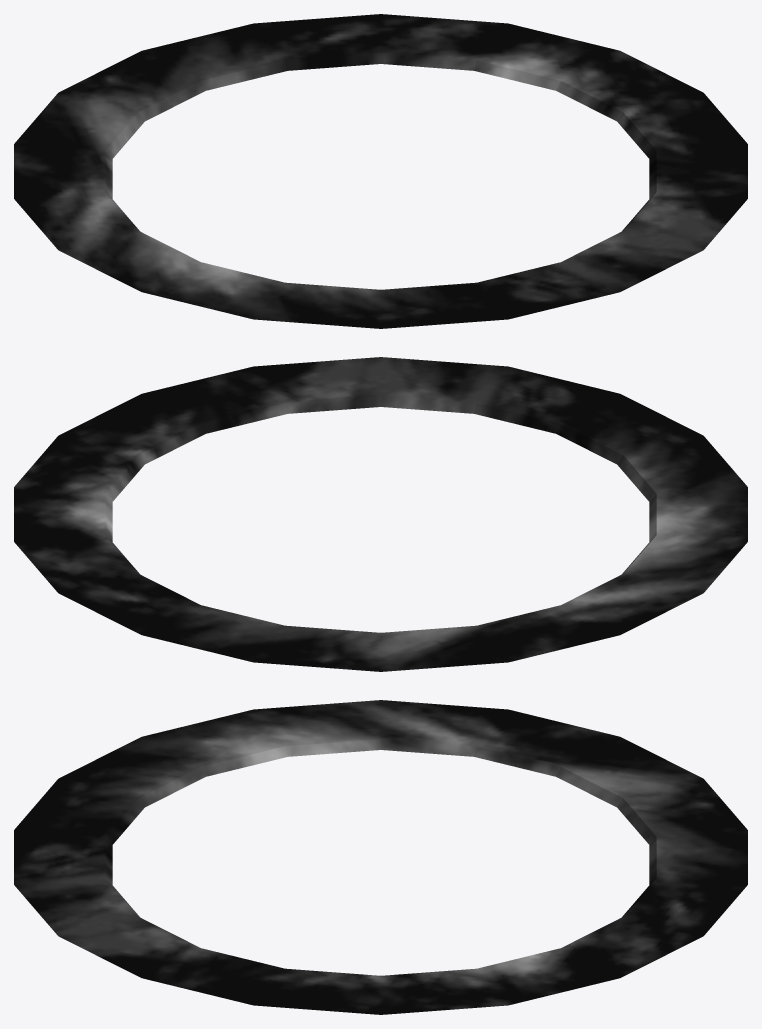
The model's file is taizi.FBX.
3 views of the same model, one above another, from view 1: azimuth 30°, elevation 25°; view 2: azimuth 150°, elevation 25°; view 3: azimuth 270°, elevation 25° (orthographic).
Visible parts, largest first — view 1: huan; view 2: huan; view 3: huan.
Part boxes in pixels (x1,y1,x2,y2): huan: (14, 14, 747, 328); huan: (14, 357, 747, 671); huan: (14, 700, 747, 1014).
Bounding box in the file's own units: 68.74 × 0.7815 × 67.7.
